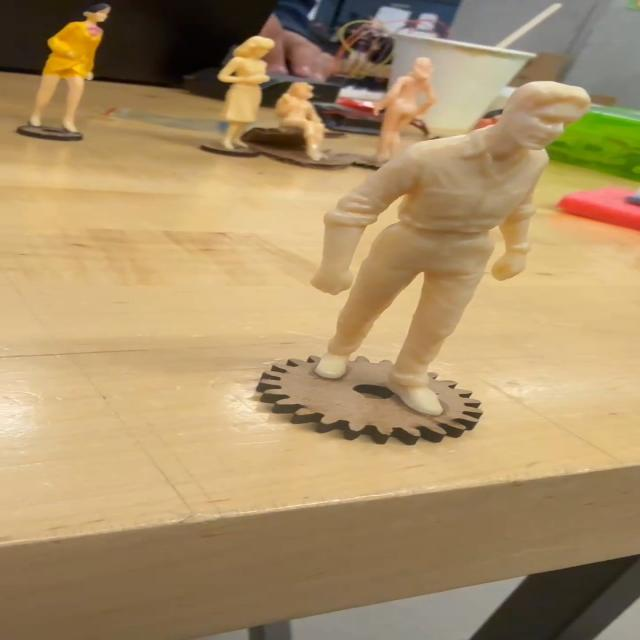Unauthorized: (312, 78, 591, 418)
